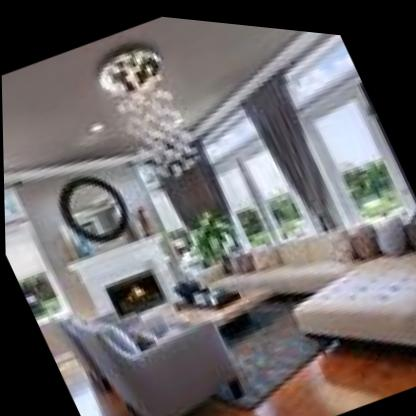Curtains: (238, 38, 341, 229)
